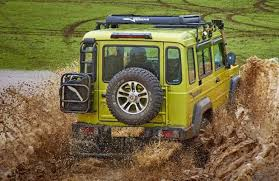Vehicle: (61, 10, 240, 147)
